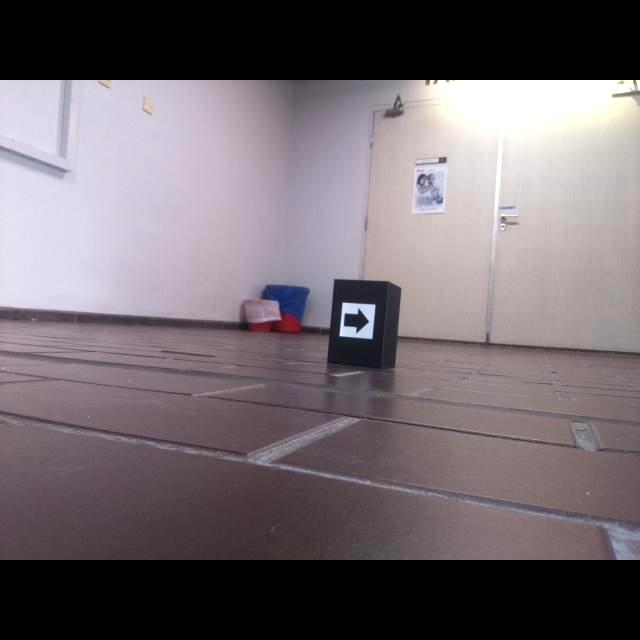RIGHT: (343, 306, 370, 335)
